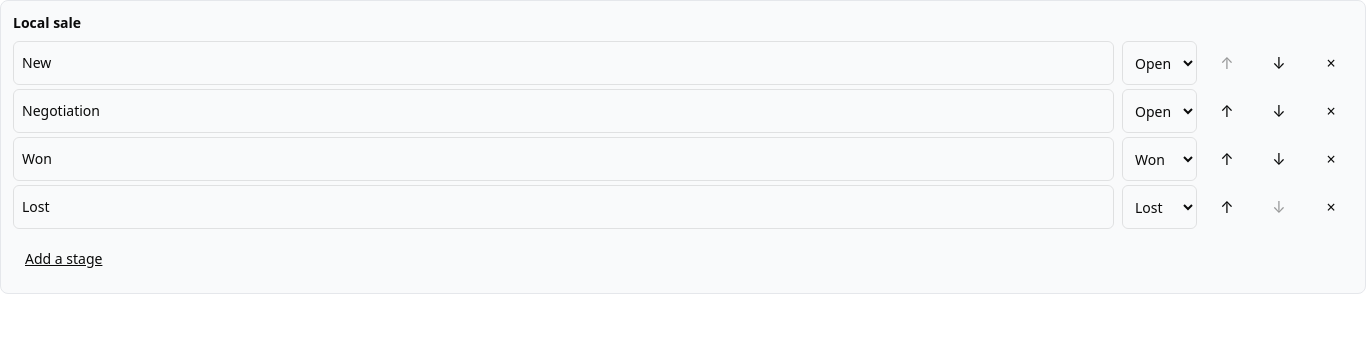
Test: StageEditor › will not save a stage without a name
Step 1. Click the button "Add a stage" → (64, 259), box [13,237,114,281]
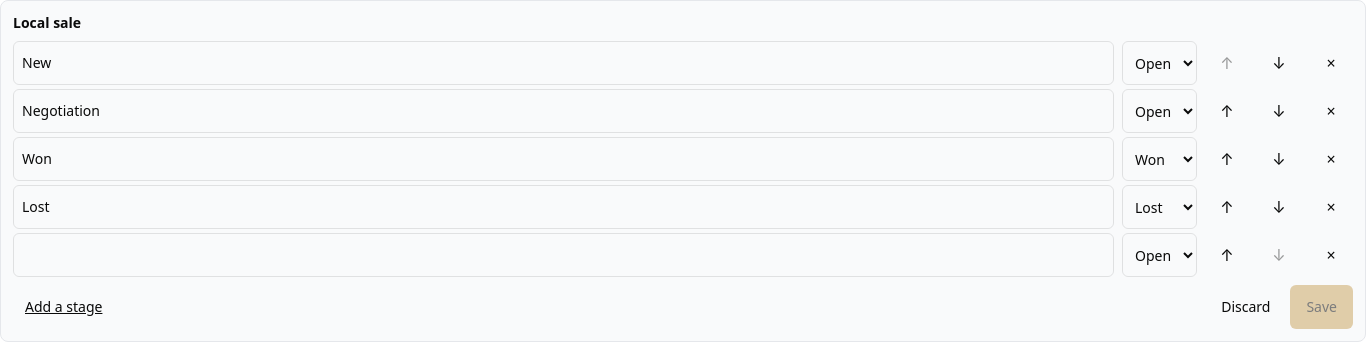
Check: the button "Save" is disabled, box [1290,285,1353,329]
